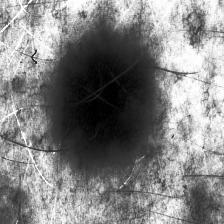Benign Marking or Mole: (61, 48, 147, 158)
